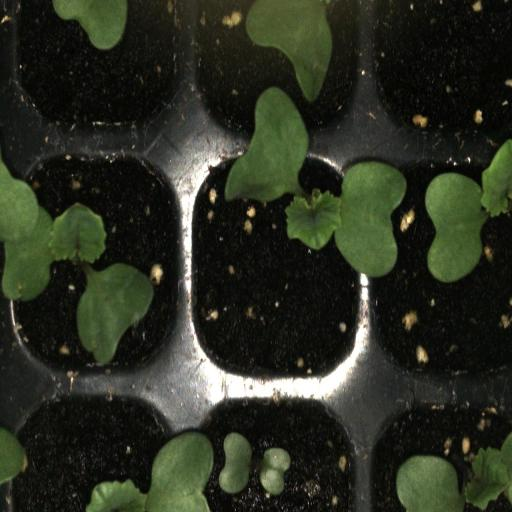Folha: (85, 432, 252, 512), (77, 263, 154, 366), (52, 0, 128, 50)
Germinacao: (2, 140, 188, 386), (184, 144, 368, 392), (368, 142, 512, 389), (369, 391, 512, 512)
